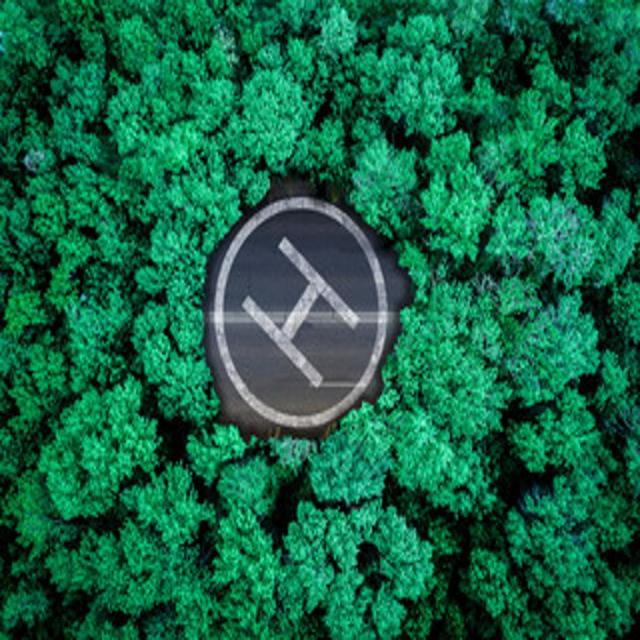helipad: (210, 195, 388, 428)
